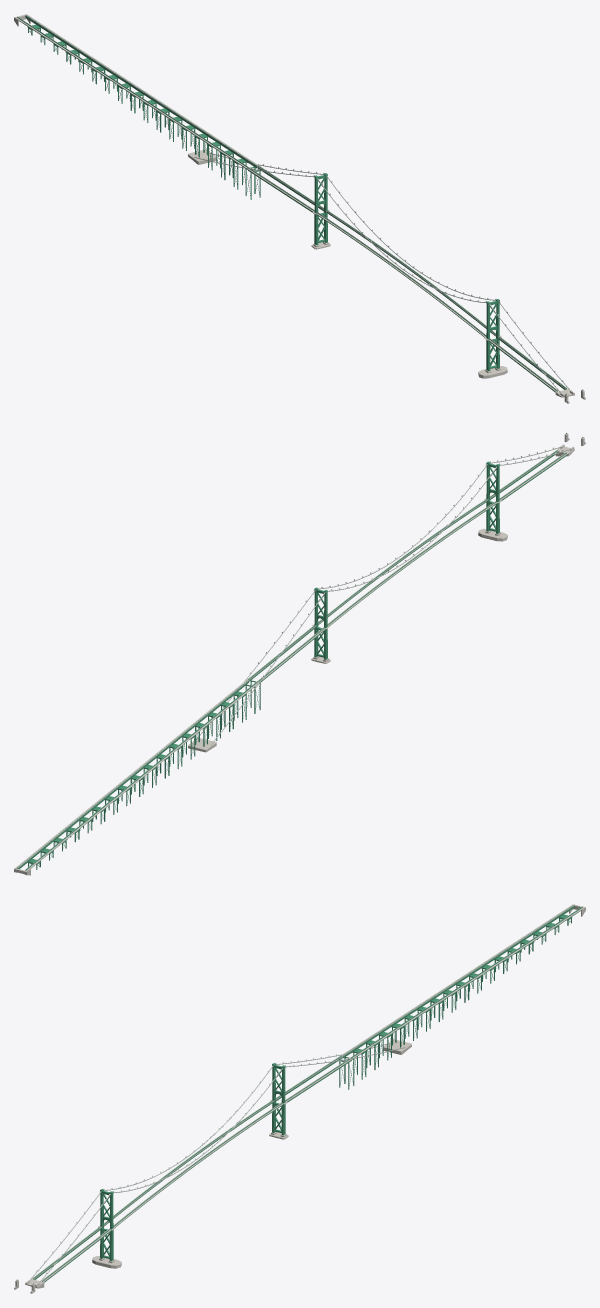
Rendered from van-lions-gate-bridge.glb.
The picture shows the model from 3 angles, top to bottom: view 1: azimuth 30°, elevation 25°; view 2: azimuth 150°, elevation 25°; view 3: azimuth 330°, elevation 25°; orthographic projection.
Parts seen in each view (by area): view 1: Lions Gate Bridge; view 2: Lions Gate Bridge; view 3: Lions Gate Bridge.
Part boxes in pixels (x1,y1,x2,y2): Lions Gate Bridge: [14, 14, 585, 403]; Lions Gate Bridge: [14, 432, 585, 875]; Lions Gate Bridge: [14, 904, 585, 1293].
Size of the model in its own units: 44 by 111 by 1530.
